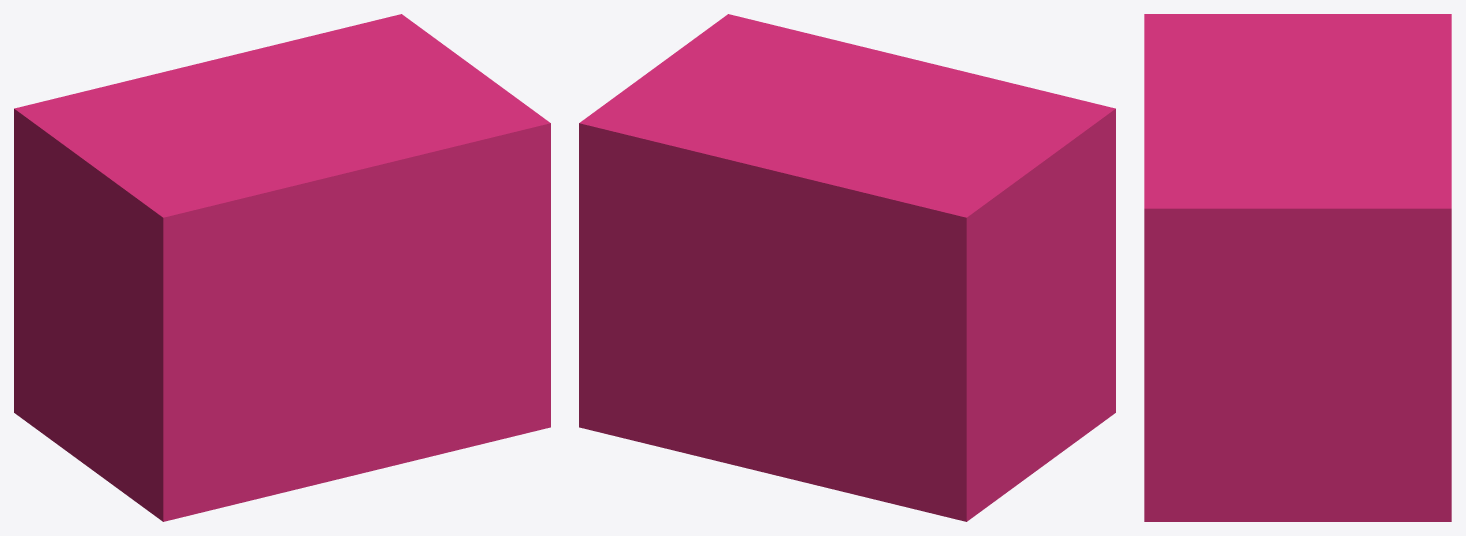
The model's file is building.fbx.
The picture shows the model from 3 angles, left to right: view 1: azimuth 30°, elevation 25°; view 2: azimuth 150°, elevation 25°; view 3: azimuth 270°, elevation 25°; orthographic projection. The views are drawn at different scales.
Visible parts, largest first — view 1: Cube; view 2: Cube; view 3: Cube.
Part boxes in pixels (x1,y1,x2,y2): Cube: (14,14,550,521); Cube: (579,14,1115,521); Cube: (1144,14,1451,521).
Size of the model in its own units: 1200 by 900 by 800.
